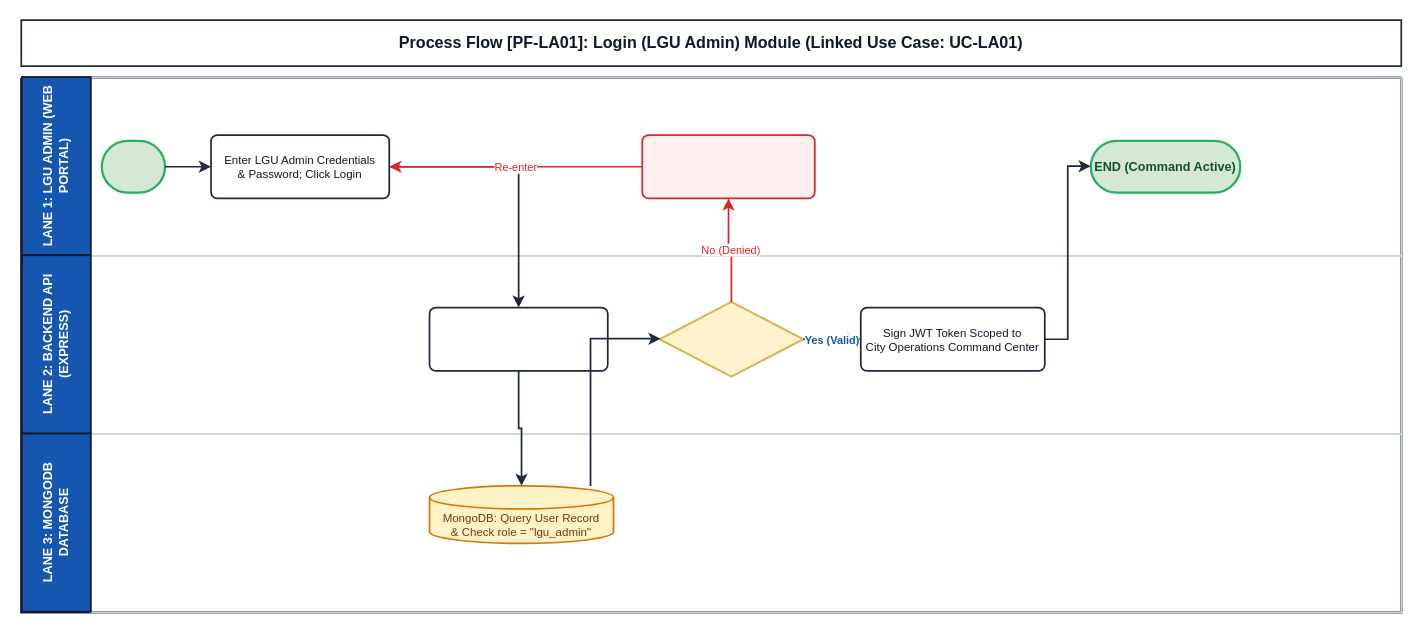
This 1421x634 diagram has some shape labels left out. The centre of each missing label's shape, as x and y in pixels:
Admin Role Valid?: point 731,338
POST /api/auth/login LGU Admin Credentials Payload: point 518,338
Show "Unauthorized Access" Error Banner: point 728,166
START: point 133,166
